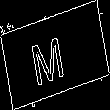M_N: (35, 25, 75, 85)
